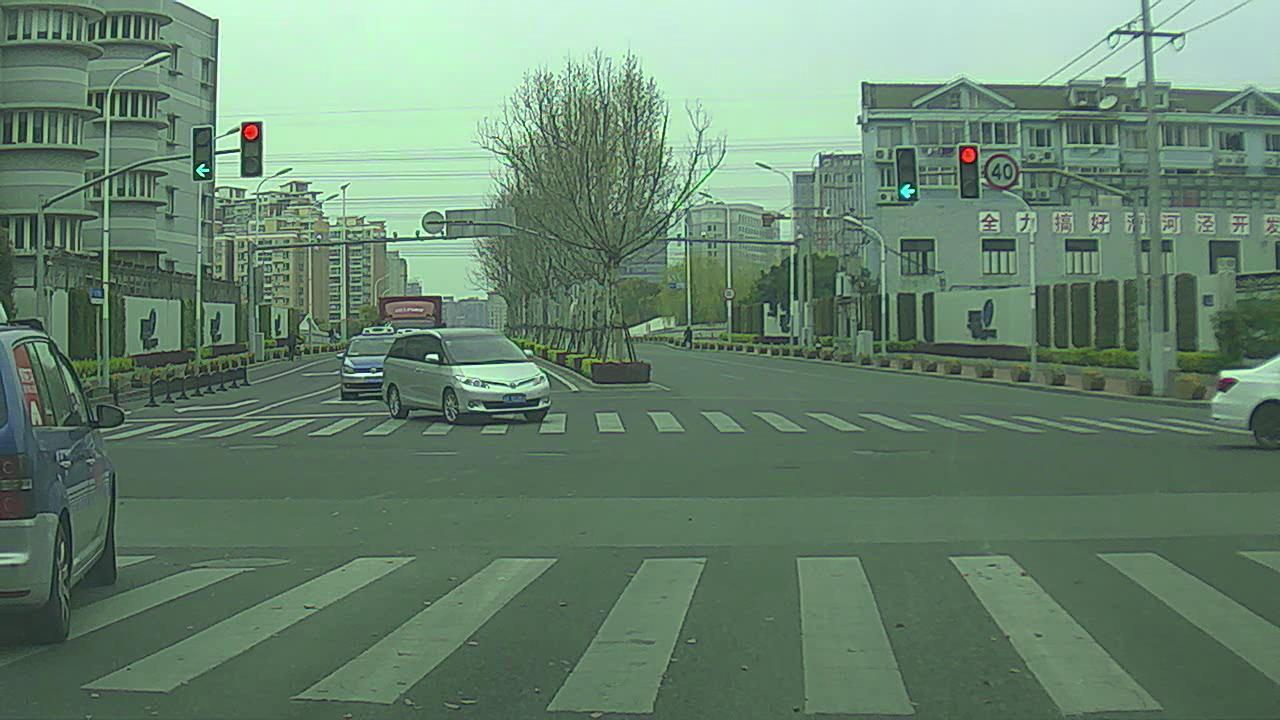traffic_light: (189, 123, 216, 184), (894, 147, 920, 209), (243, 119, 263, 180), (958, 144, 979, 199)
